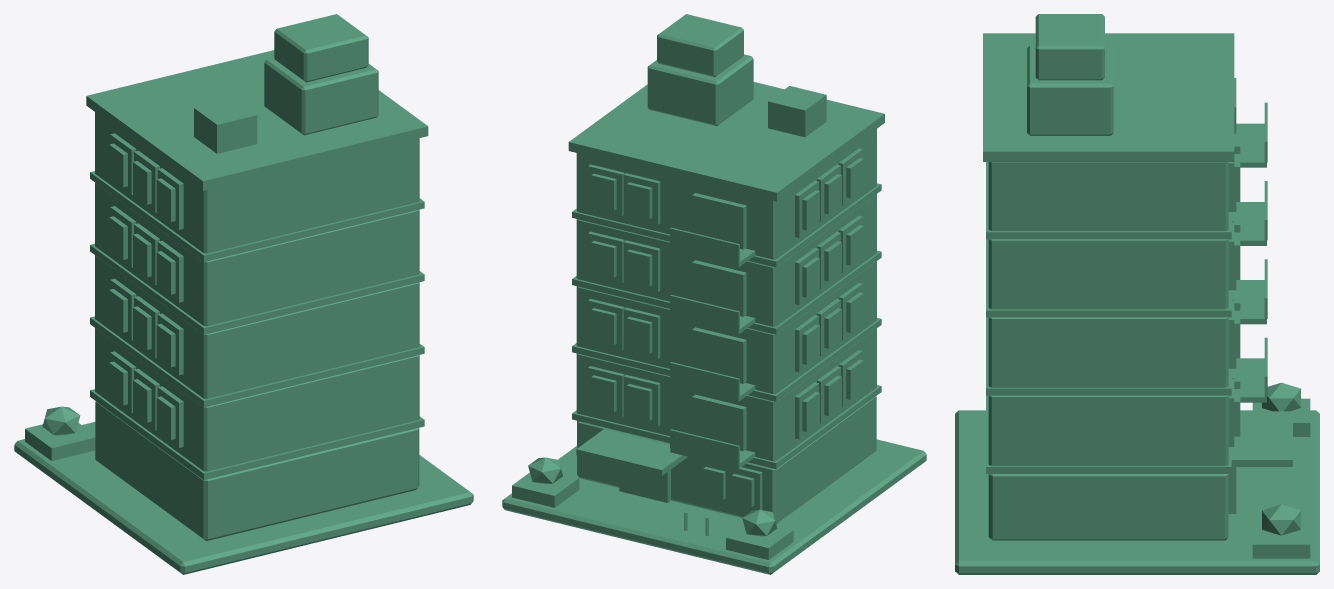
3 views of the same model, side by side, from view 1: azimuth 30°, elevation 25°; view 2: azimuth 150°, elevation 25°; view 3: azimuth 270°, elevation 25° (orthographic). The views are drawn at different scales.
Visible parts, largest first — view 1: corpo; view 2: corpo; view 3: corpo.
Part boxes in pixels (box(x1,y1,x2,y2)): corpo: box(14, 14, 473, 574); corpo: box(502, 14, 926, 574); corpo: box(955, 14, 1319, 574).
Size of the model in its own units: 1.9 by 2.84 by 1.9.
